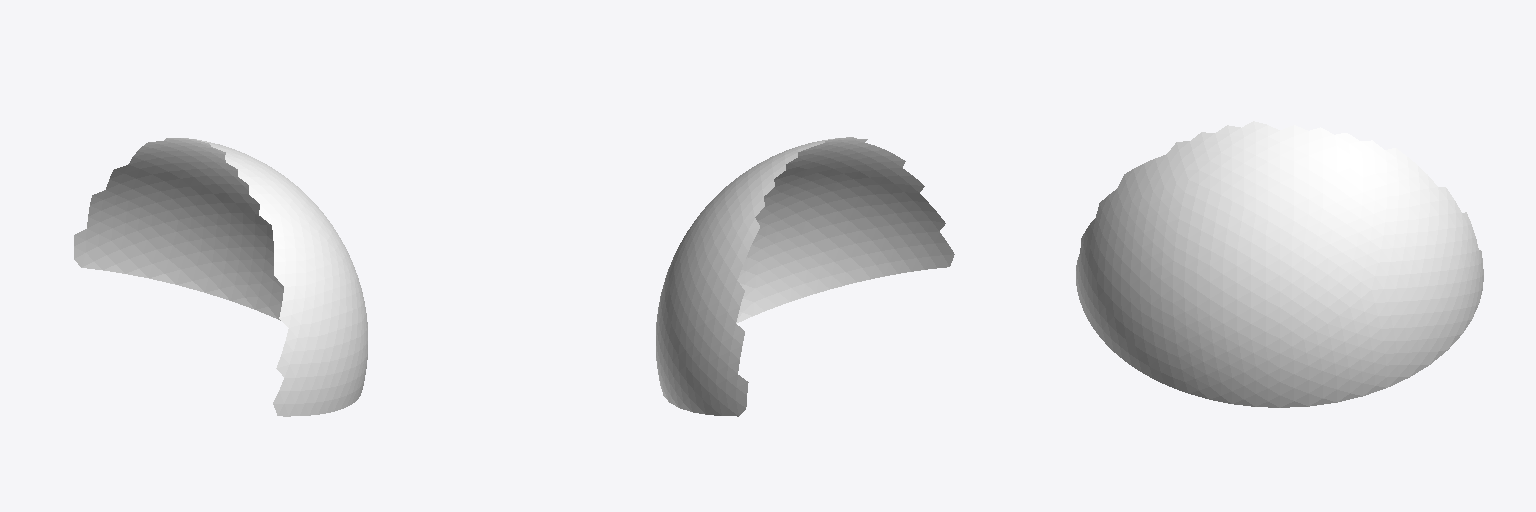
Rendered from ceu2.obj.
The picture shows the model from 3 angles: view 1: azimuth 30°, elevation 25°; view 2: azimuth 150°, elevation 25°; view 3: azimuth 270°, elevation 25°; orthographic projection.
Visible parts, largest first — view 1: Sphere_Sphere.001; view 2: Sphere_Sphere.001; view 3: Sphere_Sphere.001.
Boxes of the visible parts, <box> form: Sphere_Sphere.001: <box>74,138,367,416</box>; Sphere_Sphere.001: <box>656,137,954,416</box>; Sphere_Sphere.001: <box>1076,121,1483,407</box>.
Size of the model in its own units: 136 by 174 by 282.